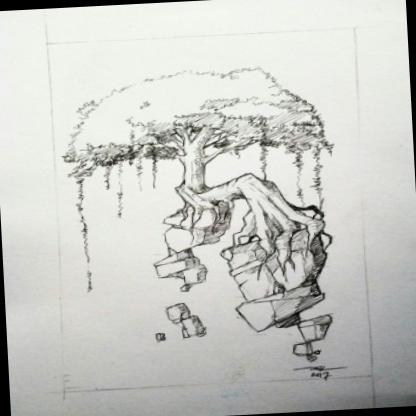branch_cut: (167, 128, 230, 168)
crown_mushroom: (60, 66, 336, 179)
trunk_straight: (177, 160, 210, 183)
